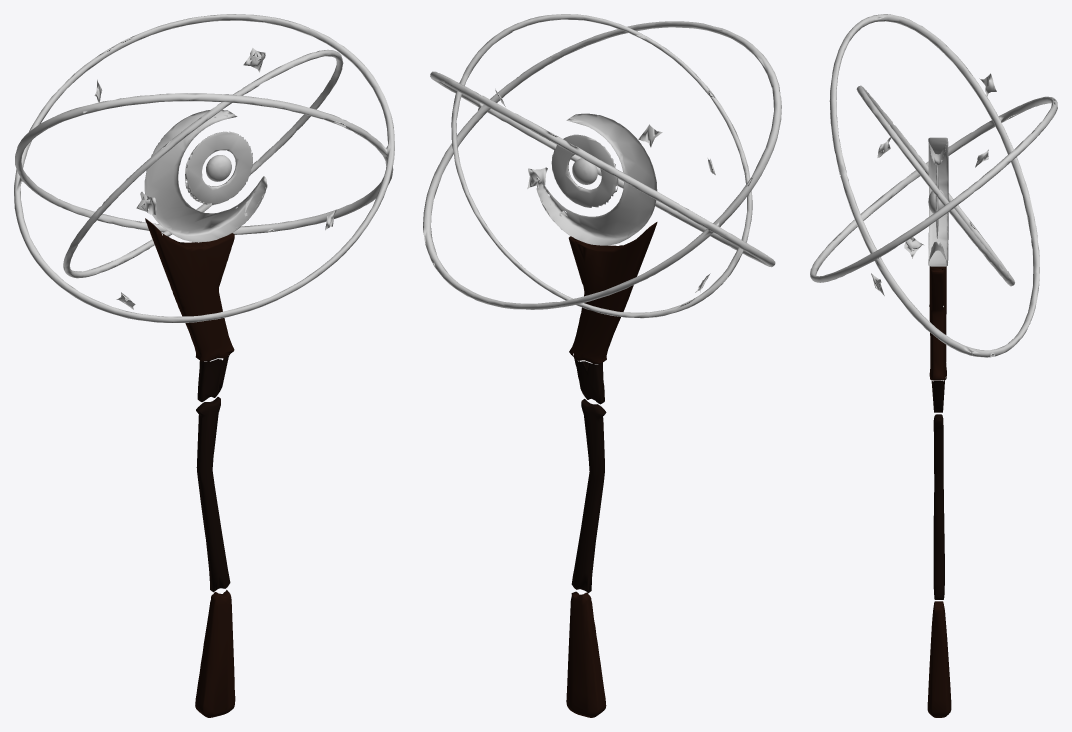
Rendered from staff.glb.
3 views of the same model, side by side, from view 1: azimuth 30°, elevation 25°; view 2: azimuth 150°, elevation 25°; view 3: azimuth 270°, elevation 25° (orthographic). The views are drawn at different scales.
Parts seen in each view (by area): view 1: Material.009, Material.001, Material.007, Material.002, Material.006, Material.011; view 2: Material.009, Material.001, Material.007, Material.002, Material.006, Material.011; view 3: Material.009, Material.001, Material.002, Material.007, Material.011.
Boxes of the visible parts, box(x1,y1,x2,y2) form: Material.009: box(14, 14, 394, 322); Material.001: box(145, 218, 235, 717); Material.007: box(144, 110, 267, 242); Material.002: box(196, 354, 230, 592); Material.006: box(185, 131, 252, 204); Material.011: box(94, 48, 336, 309); Material.009: box(423, 14, 781, 318); Material.001: box(566, 222, 657, 717); Material.007: box(536, 113, 657, 245); Material.002: box(571, 358, 606, 593); Material.006: box(551, 134, 618, 207); Material.011: box(495, 89, 715, 292); Material.009: box(810, 14, 1057, 357); Material.001: box(927, 266, 951, 717); Material.002: box(931, 380, 944, 599); Material.007: box(928, 137, 948, 266); Material.011: box(871, 73, 996, 295).
Size of the model in its own units: 0.521 by 0.9588 by 0.3372.
